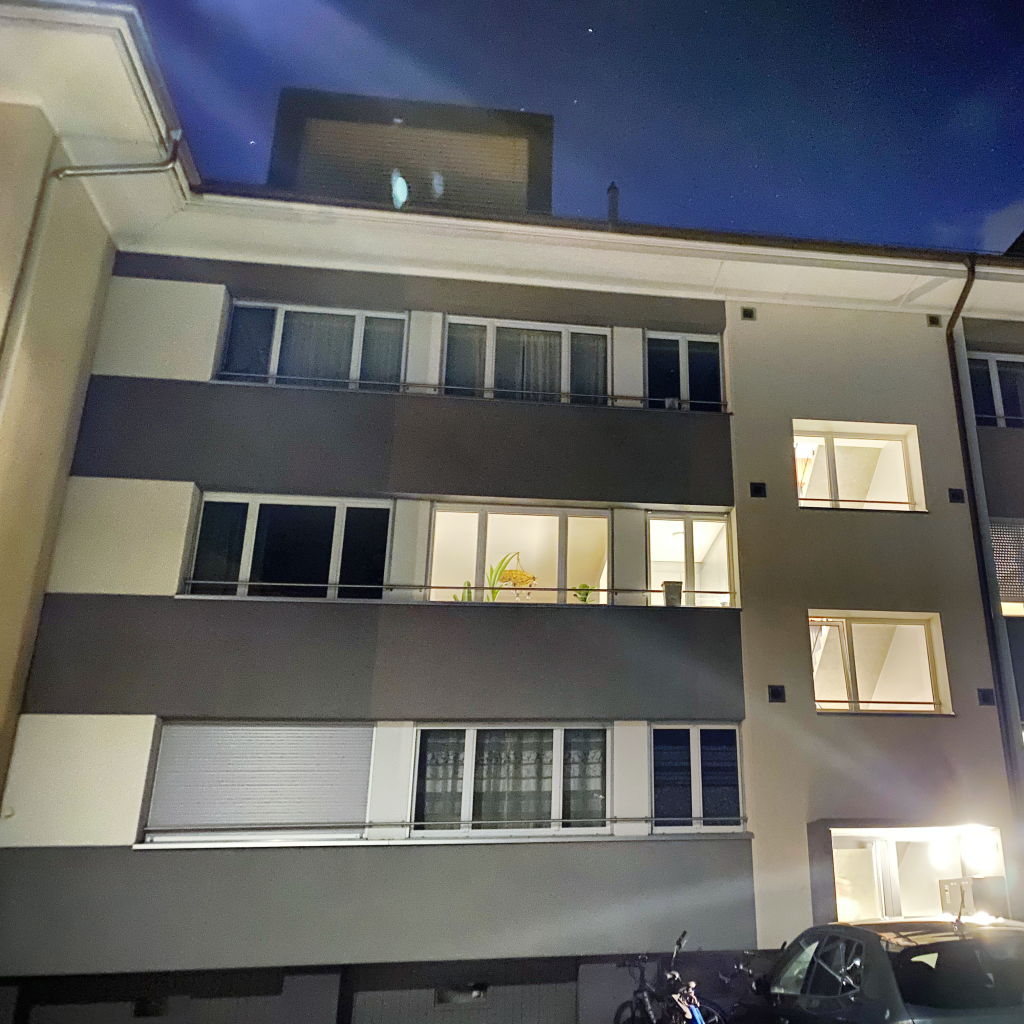glass_panel: (248, 504, 334, 596), (473, 729, 552, 828), (851, 622, 933, 710), (484, 513, 557, 602), (277, 311, 354, 384), (188, 502, 247, 594), (834, 437, 909, 509), (414, 729, 464, 828), (495, 327, 560, 400), (338, 507, 389, 598), (430, 510, 480, 600), (218, 306, 275, 381), (562, 729, 605, 826), (652, 728, 693, 827), (700, 730, 740, 826), (809, 619, 850, 710), (566, 517, 608, 602), (359, 316, 404, 390), (649, 518, 686, 605), (693, 520, 730, 606), (445, 323, 485, 396), (570, 332, 607, 403), (794, 435, 829, 506), (646, 337, 680, 407), (688, 340, 720, 410), (969, 359, 997, 426), (997, 361, 1023, 427)
